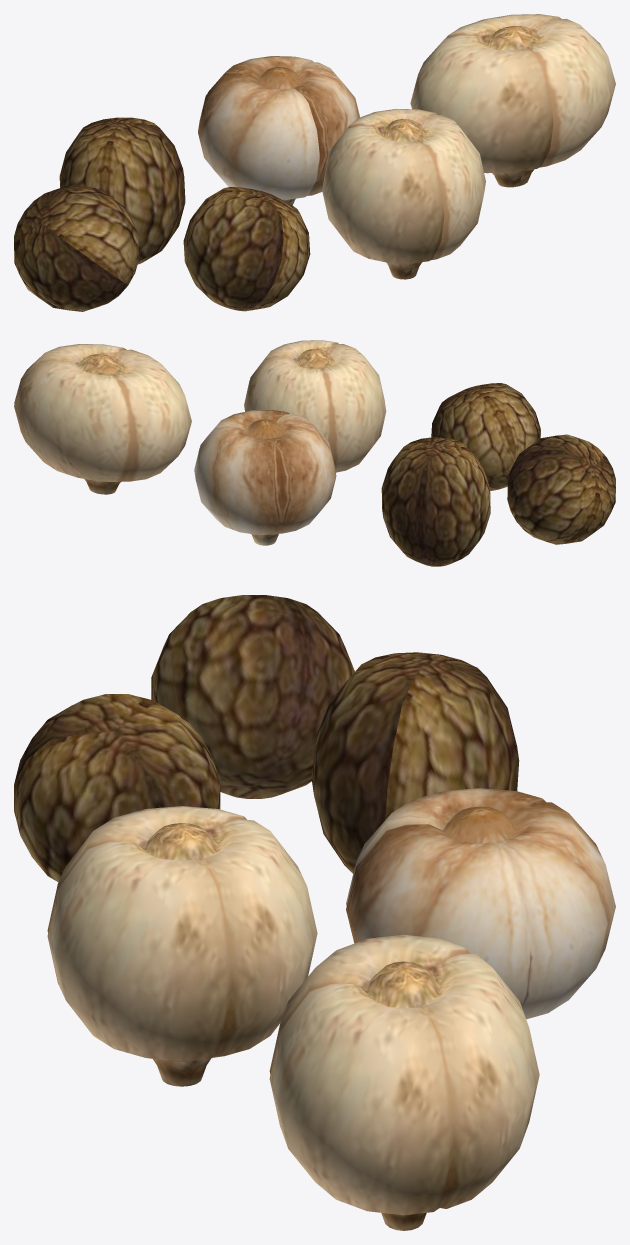
The model's file is doukou.FBX.
The picture shows the model from 3 angles, top to bottom: view 1: azimuth 30°, elevation 25°; view 2: azimuth 150°, elevation 25°; view 3: azimuth 270°, elevation 25°; orthographic projection. The views are drawn at different scales.
Parts seen in each view (by area): view 1: Sphere006, Sphere001, Sphere004, Sphere005, Sphere002, Sphere003; view 2: Sphere006, Sphere004, Sphere001, Sphere003, Sphere005, Sphere002; view 3: Sphere006, Sphere001, Sphere004, Sphere003, Sphere005, Sphere002.
Part boxes in pixels (x1,y1,x2,y2): Sphere006: (410, 14, 615, 187); Sphere001: (322, 109, 485, 279); Sphere004: (198, 56, 359, 205); Sphere005: (14, 185, 138, 311); Sphere002: (183, 187, 310, 311); Sphere003: (59, 117, 185, 264); Sphere006: (14, 344, 191, 494); Sphere004: (194, 410, 336, 545); Sphere001: (244, 340, 386, 472); Sphere003: (381, 437, 490, 566); Sphere005: (507, 434, 615, 544); Sphere002: (431, 383, 540, 490); Sphere006: (269, 934, 539, 1230); Sphere001: (47, 806, 317, 1086); Sphere004: (346, 788, 615, 1019); Sphere003: (312, 652, 519, 873); Sphere005: (151, 595, 354, 798); Sphere002: (14, 694, 220, 882).
Bounding box in the file's own units: 437 × 104 × 220.
Materials: 1 (1 with a texture image).
